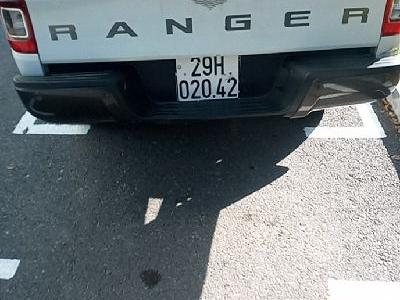lisence: (173, 54, 241, 103)
